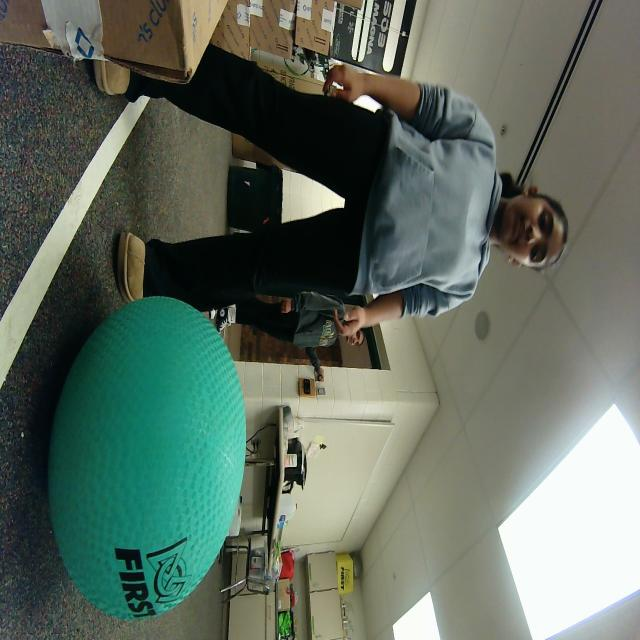algae: (48, 297, 246, 620)
